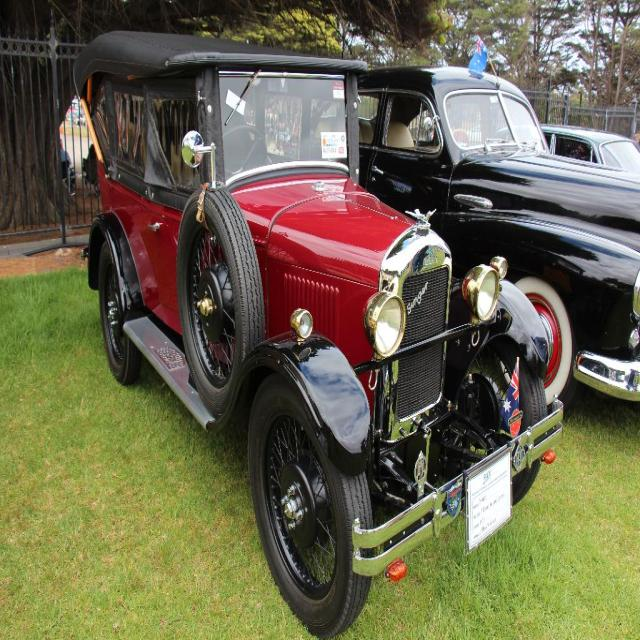car: (71, 28, 563, 638)
